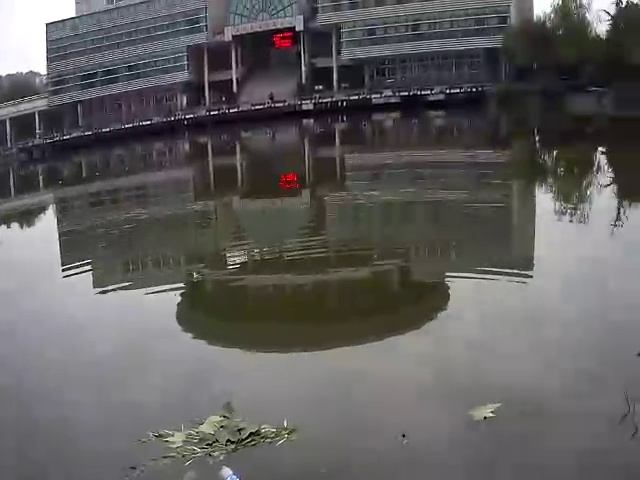bottle: (214, 462, 240, 480)
leaf: (130, 411, 297, 456), (469, 399, 501, 428)
